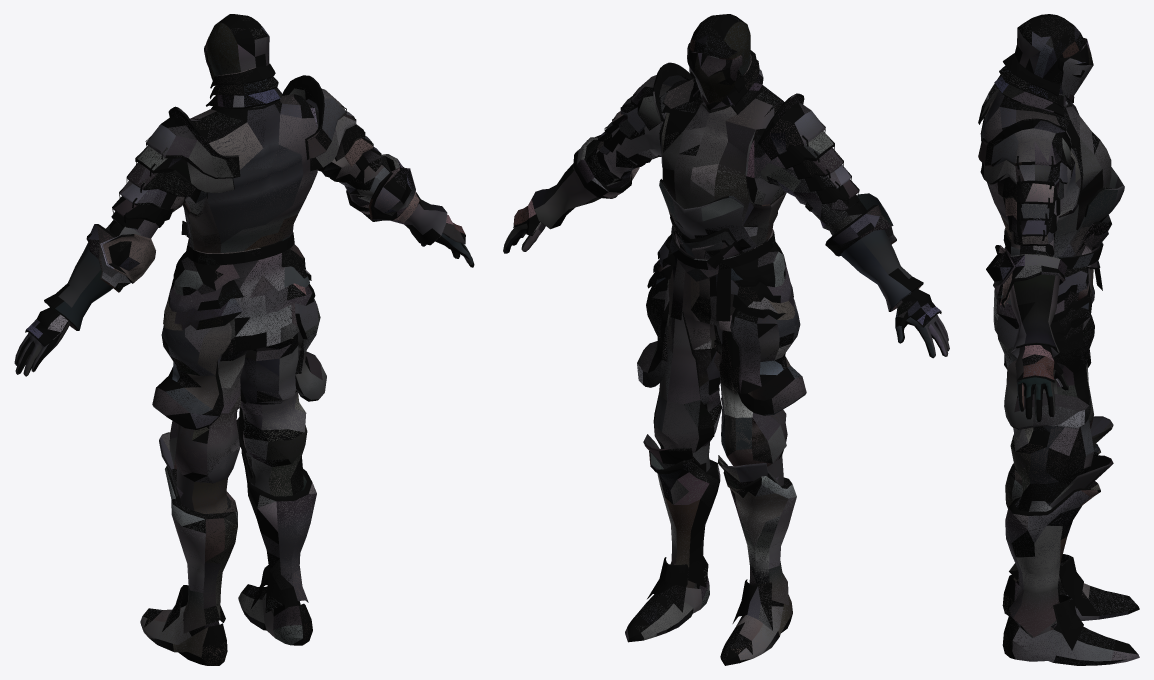
The picture shows the model from 3 angles, left to right: view 1: azimuth 30°, elevation 25°; view 2: azimuth 150°, elevation 25°; view 3: azimuth 270°, elevation 25°; orthographic projection. The views are drawn at different scales.
Parts seen in each view (by area): view 1: mesh_0; view 2: mesh_0; view 3: mesh_0.
Part boxes in pixels (box(x1,y1,x2,y2)): mesh_0: box(14, 14, 474, 665); mesh_0: box(503, 14, 949, 665); mesh_0: box(978, 14, 1139, 665).
Size of the model in its own units: 54.54 by 71.33 by 16.91.
Materials: 1 (1 with a texture image).
